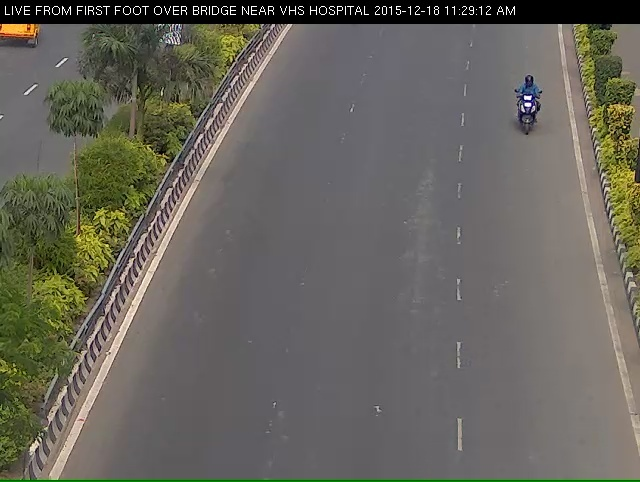Person: (512, 77, 541, 147)
